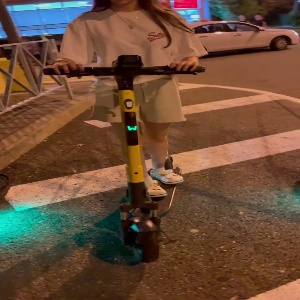human on a scooter: (42, 1, 209, 266)
